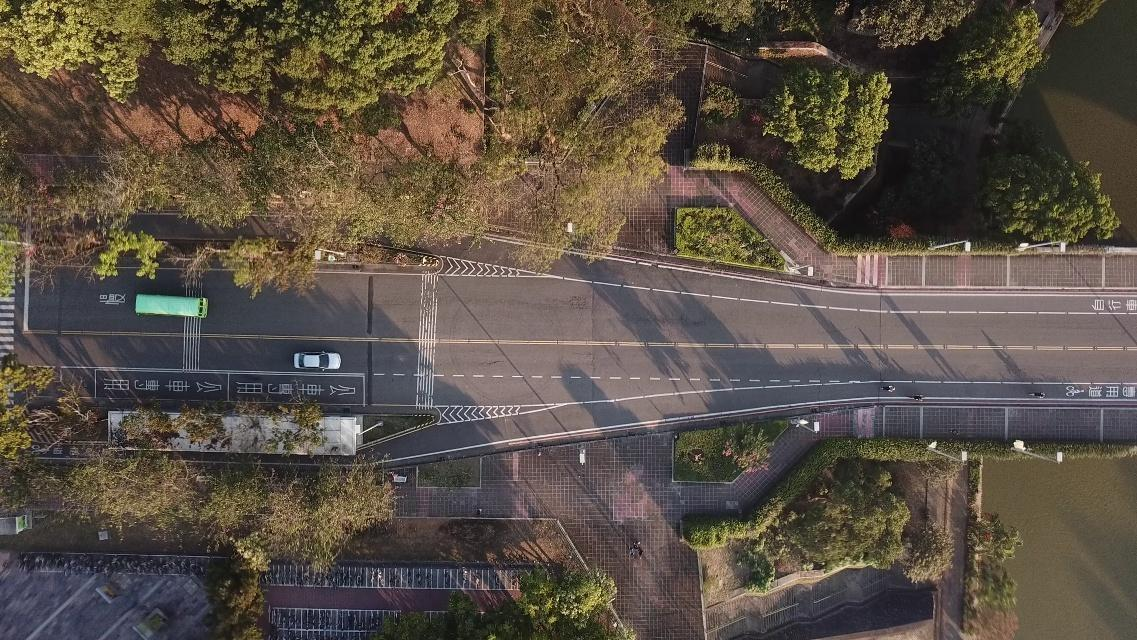Bus: (133, 294, 207, 317)
Car: (293, 351, 342, 371)
